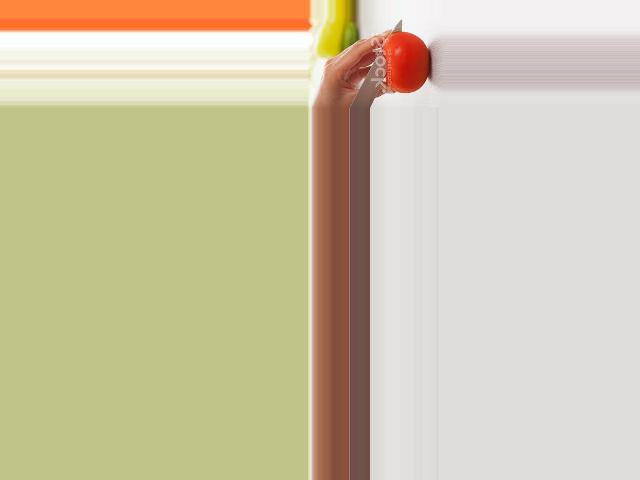tomato: (382, 31, 430, 94)
